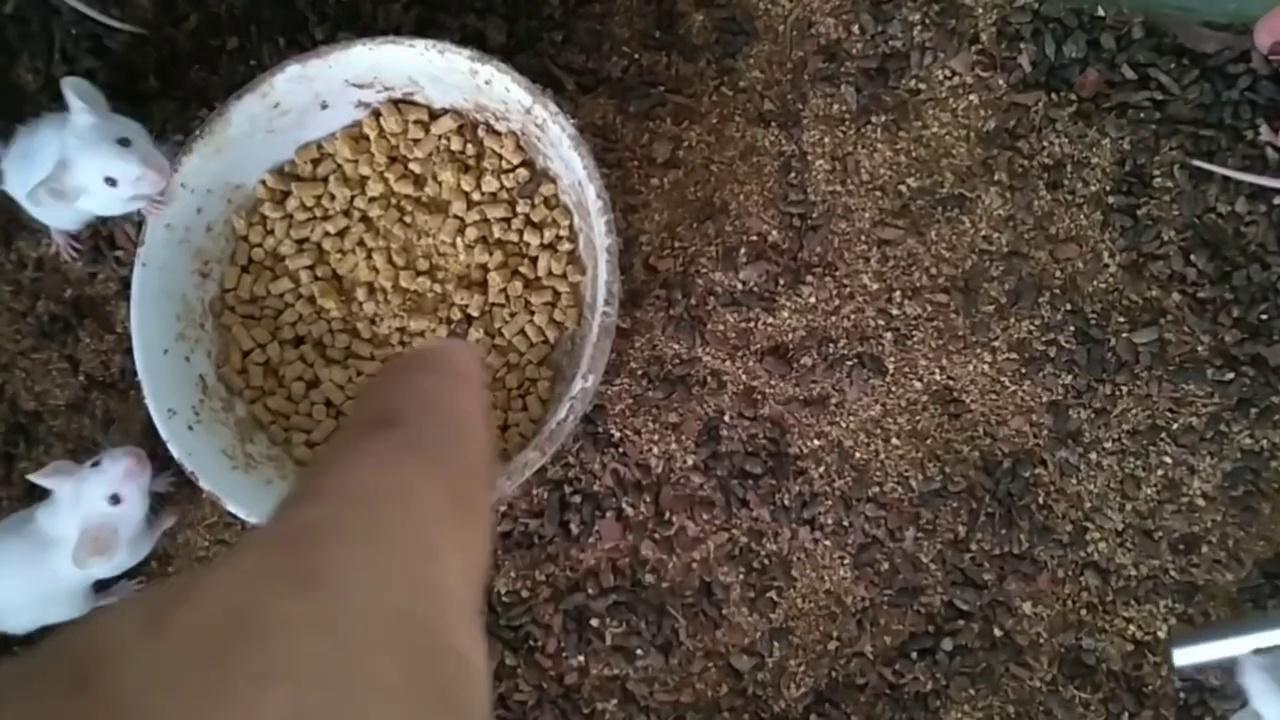rat: (0, 443, 180, 633), (0, 76, 171, 262)
